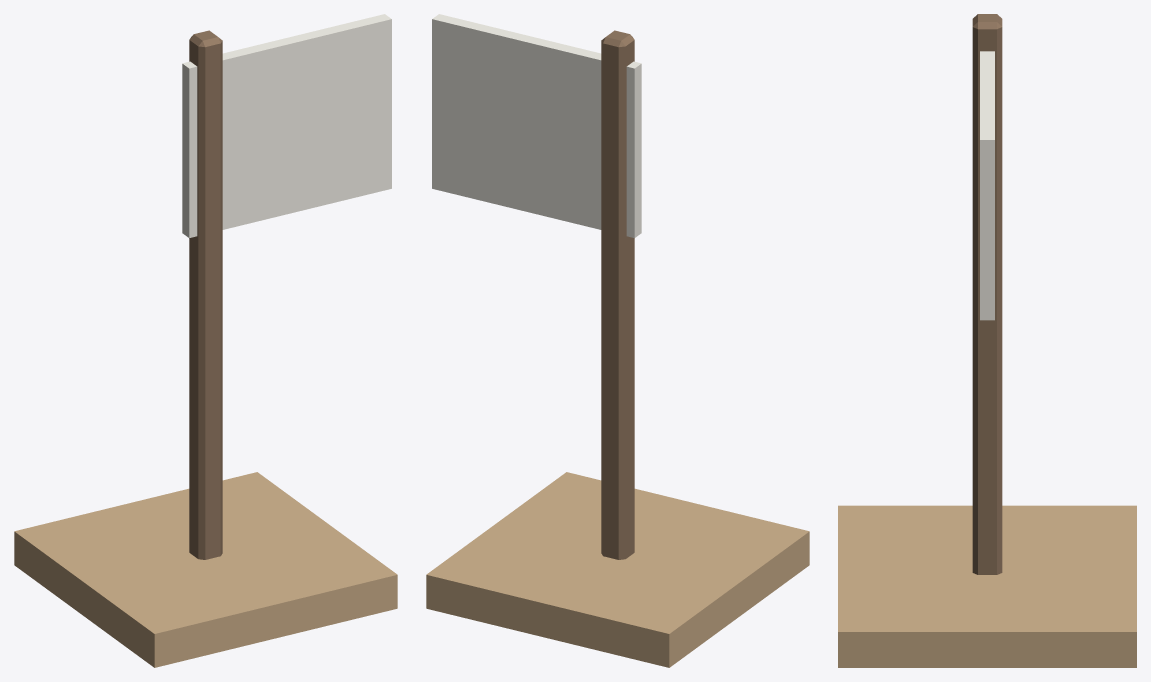
Rendered from feudal-japan-castle-town-roof-route-marker-051a9fd5__26533.glb.
3 renders of one model, left to right at view 1: azimuth 30°, elevation 25°; view 2: azimuth 150°, elevation 25°; view 3: azimuth 270°, elevation 25°, orthographic. The views are drawn at different scales.
Visible parts, largest first — view 1: roof-route-marker; view 2: roof-route-marker; view 3: roof-route-marker.
Boxes of the visible parts, bbox=[...] form: roof-route-marker: bbox=[14, 14, 397, 667]; roof-route-marker: bbox=[426, 14, 809, 667]; roof-route-marker: bbox=[838, 14, 1136, 667].
Size of the model in its own units: 0.375 by 0.65 by 0.3.
